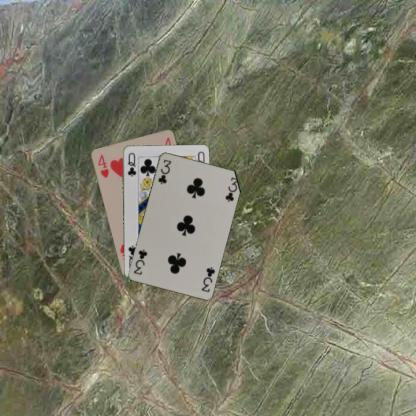3c: (198, 264, 216, 293), (156, 156, 172, 186)
4h: (95, 152, 110, 179)
Qc: (125, 150, 137, 177)
